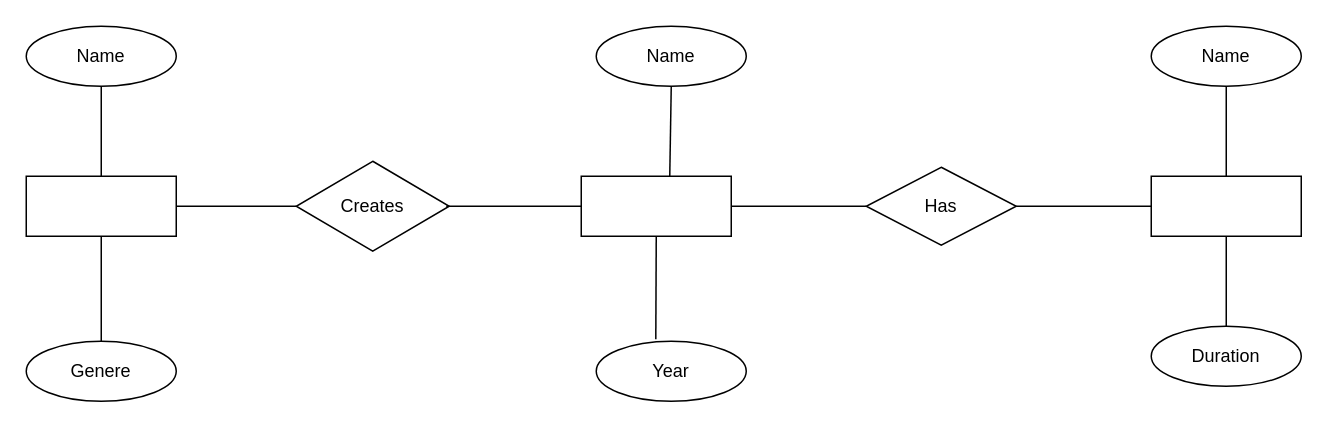
The diagram is 1328 pixels wide and 428 high, and some of its shapes have lost their labels. Each missing label, with the centre of its shape:
"Album" goes at point (655, 205).
"Artist" goes at point (100, 205).
"Tracks" goes at point (1225, 205).
